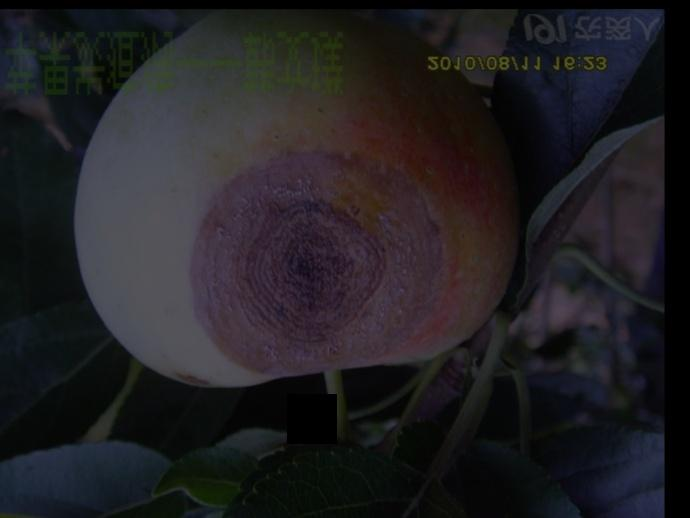rotten apple: (63, 18, 525, 393)
